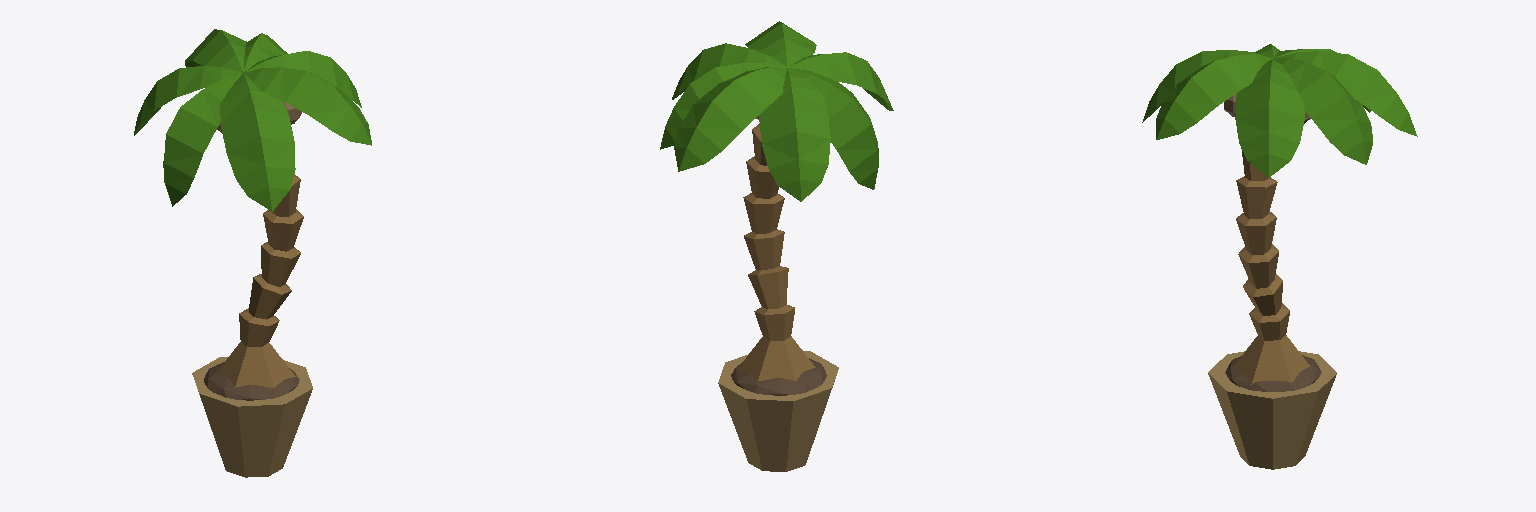
Rendered from HousePlants2.obj.
3 renders of one model, left to right at view 1: azimuth 30°, elevation 25°; view 2: azimuth 150°, elevation 25°; view 3: azimuth 270°, elevation 25°, orthographic.
Visible parts, largest first — view 1: mergedBlocks; view 2: mergedBlocks; view 3: mergedBlocks.
Part boxes in pixels (x1,y1,x2,y2): mergedBlocks: (134, 29, 371, 477); mergedBlocks: (660, 21, 893, 471); mergedBlocks: (1142, 44, 1417, 469).
Bounding box in the file's own units: 1.34 × 2.6 × 1.59.